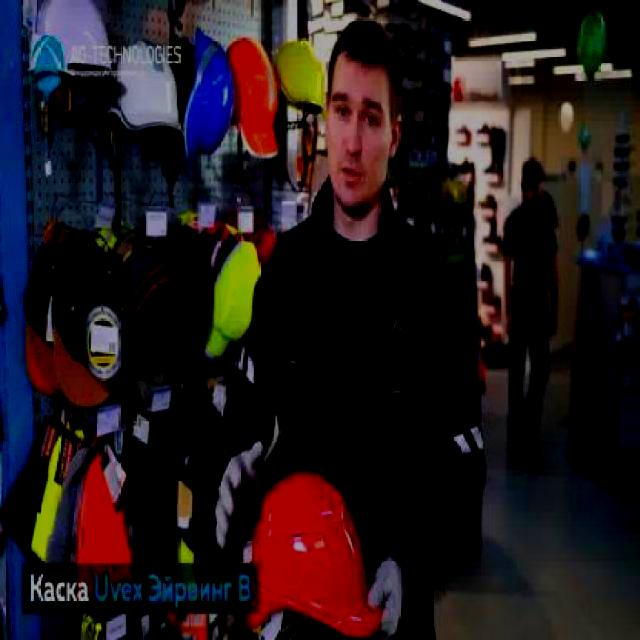Gloves: (214, 434, 264, 552), (364, 554, 410, 638)
Helmet: (248, 468, 390, 638), (182, 23, 236, 174), (105, 38, 183, 137), (229, 36, 280, 159), (33, 0, 115, 75), (272, 36, 326, 115)
